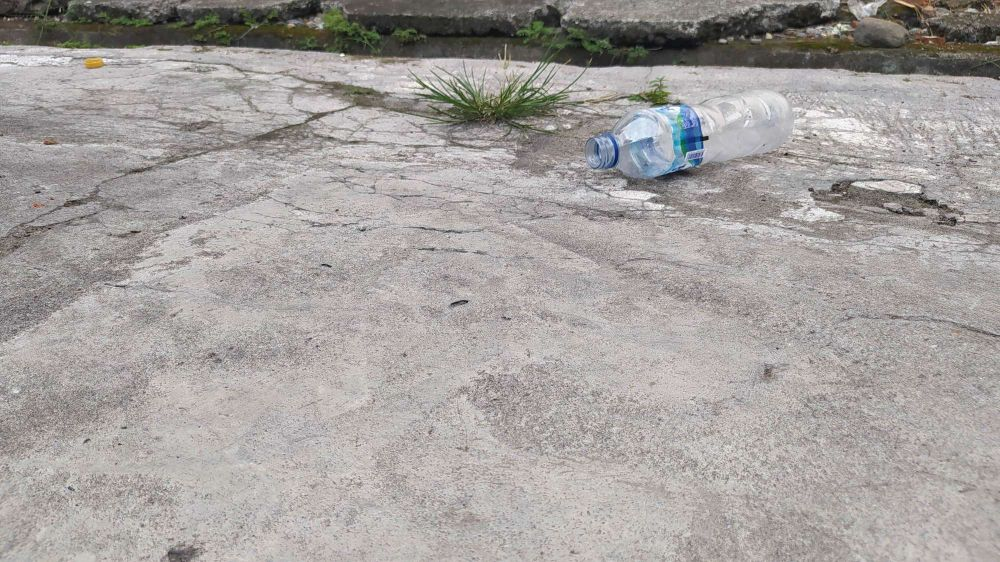botol: (575, 82, 805, 192)
